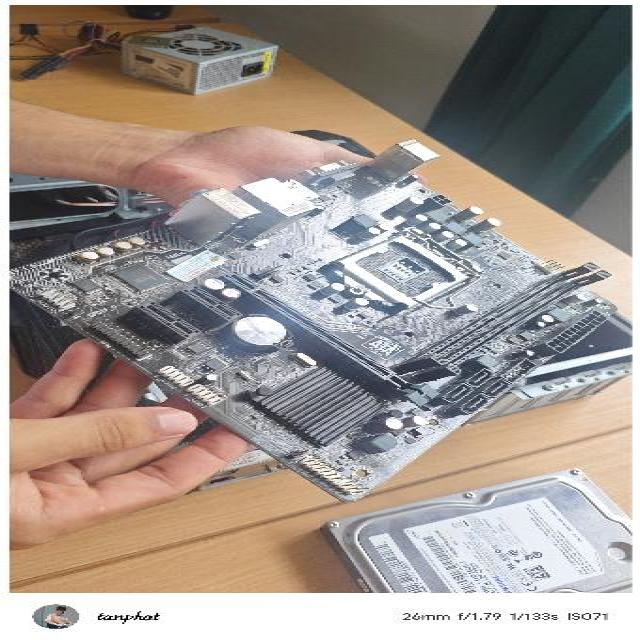DISK: (304, 468, 633, 592)
Mainboard: (2, 154, 634, 492)
PSU: (17, 19, 303, 102)
